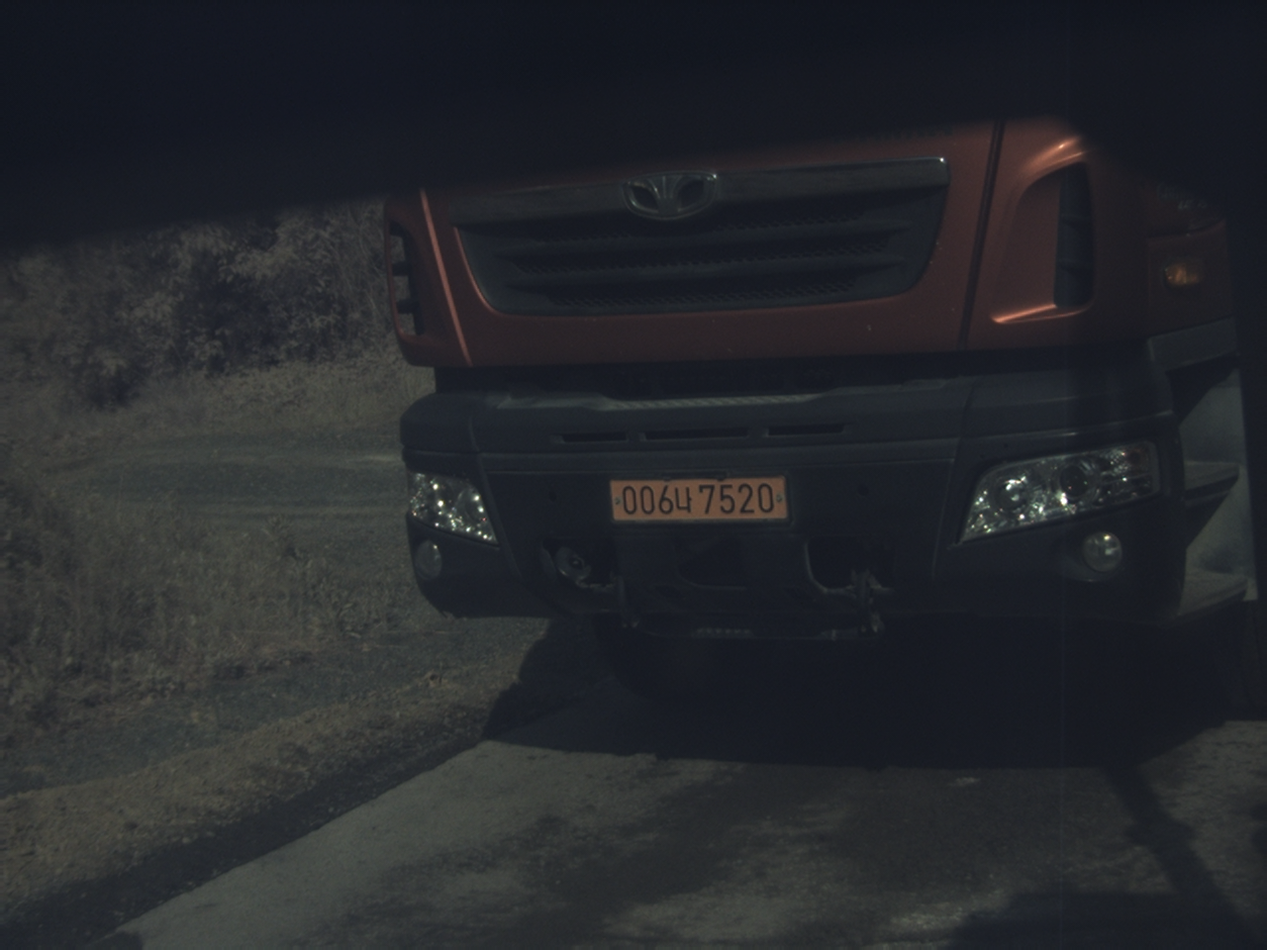license_plate: (611, 477, 787, 521)
truck: (386, 119, 1255, 690)
